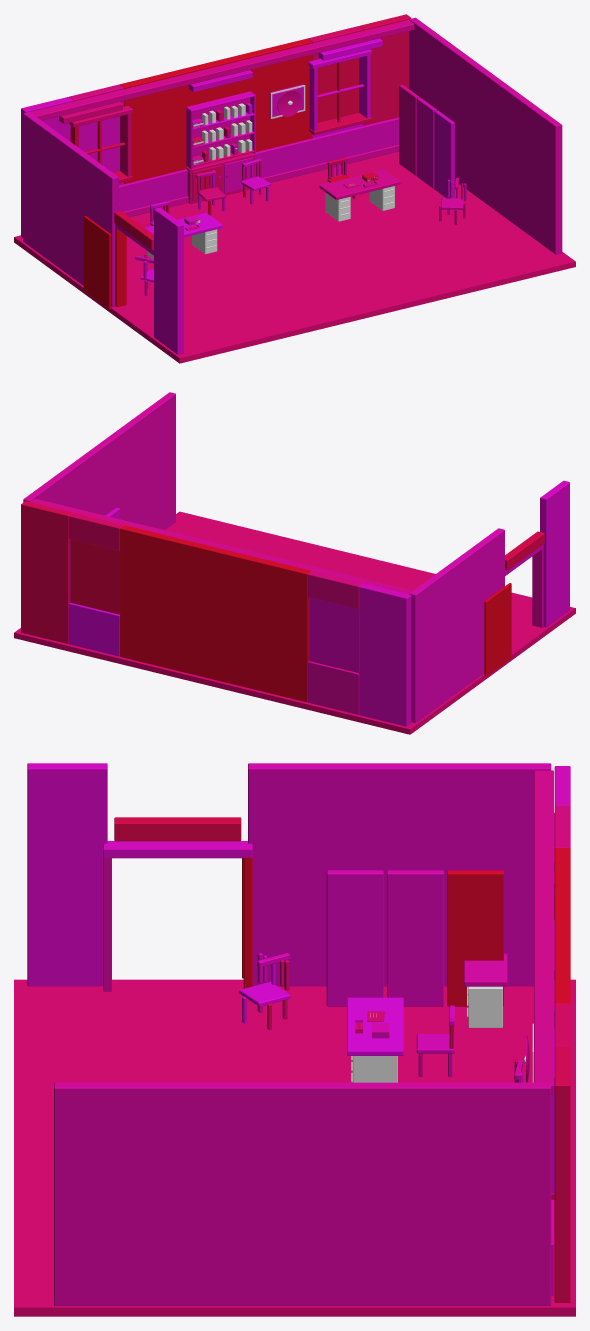
File: court_chapter_10.glb
The picture shows the model from 3 angles, top to bottom: view 1: azimuth 30°, elevation 25°; view 2: azimuth 150°, elevation 25°; view 3: azimuth 270°, elevation 25°; orthographic projection. The views are drawn at different scales.
Visible parts, largest first — view 1: Floor, WallRight, WallLeftRear, WallBackPier_1, Wainscot, CorniceRear, WallLeftFront, WallBackPier_end, SecretariatRecords, OpenDoorLeaf, Desk_1, Glazing_1 (+24 smaller); view 2: WallBackPier_1, Floor, WallLeftRear, WallRight, WallBackPier_0, WallBackPier_end, WallLeftFront, Glazing_0, Glazing_1, WallBackLow_0, WallBackLow_1, OpenDoorLeaf (+5 smaller); view 3: WallRight, Floor, WallLeftRear, WallLeftFront, AnteroomScreen_-4.9_-1.8, AnteroomScreen_-4.9_-0.9, CorniceRear, AnteroomScreen_-4.9_-2.7, WallBackPier_end, Desk_0, DoorLintel, SecretaryStation (+8 smaller).
Part boxes in pixels (left/top/right/bottom): Floor: left=14, top=151, right=575, bottom=363; WallRight: left=409, top=17, right=562, bottom=254; WallLeftRear: left=23, top=112, right=118, bottom=306; WallBackPier_1: left=120, top=38, right=312, bottom=184; Wainscot: left=119, top=117, right=398, bottom=211; CorniceRear: left=30, top=20, right=414, bottom=120; WallLeftFront: left=154, top=207, right=183, bottom=354; WallBackPier_end: left=359, top=14, right=411, bottom=125; SecretariatRecords: left=186, top=91, right=255, bottom=169; OpenDoorLeaf: left=83, top=215, right=111, bottom=309; Desk_1: left=319, top=169, right=400, bottom=221; Glazing_1: left=317, top=58, right=359, bottom=122; WallBackPier_1: left=120, top=525, right=311, bottom=702; Floor: left=14, top=511, right=575, bottom=734; WallLeftRear: left=409, top=528, right=504, bottom=723; WallRight: left=23, top=392, right=175, bottom=529; WallBackPier_0: left=359, top=583, right=411, bottom=726; WallBackPier_end: left=21, top=501, right=72, bottom=644; WallLeftFront: left=540, top=480, right=569, bottom=627; Glazing_0: left=309, top=598, right=359, bottom=672; Glazing_1: left=70, top=539, right=119, bottom=614; WallBackLow_0: left=308, top=661, right=359, bottom=714; WallBackLow_1: left=68, top=603, right=119, bottom=656; OpenDoorLeaf: left=484, top=583, right=511, bottom=676; WallRight: left=54, top=1082, right=551, bottom=1305; Floor: left=14, top=979, right=575, bottom=1316; WallLeftRear: left=248, top=763, right=551, bottom=986; WallLeftFront: left=27, top=763, right=107, bottom=986; AnteroomScreen_-4.9_-1.8: left=387, top=870, right=443, bottom=1006; AnteroomScreen_-4.9_-0.9: left=326, top=870, right=383, bottom=1006; CorniceRear: left=534, top=770, right=553, bottom=1094; AnteroomScreen_-4.9_-2.7: left=447, top=870, right=503, bottom=1006; WallBackPier_end: left=554, top=1046, right=570, bottom=1302; Desk_0: left=347, top=997, right=403, bottom=1082; DoorLintel: left=114, top=817, right=241, bottom=841; SecretaryStation: left=464, top=953, right=507, bottom=1027.
Size of the model in its own units: 11.7 by 3.75 by 8.4.
